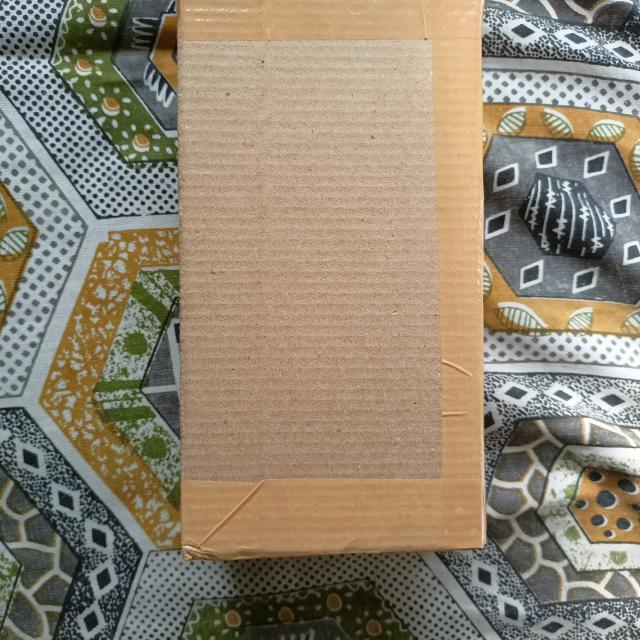box: (176, 1, 488, 565)
